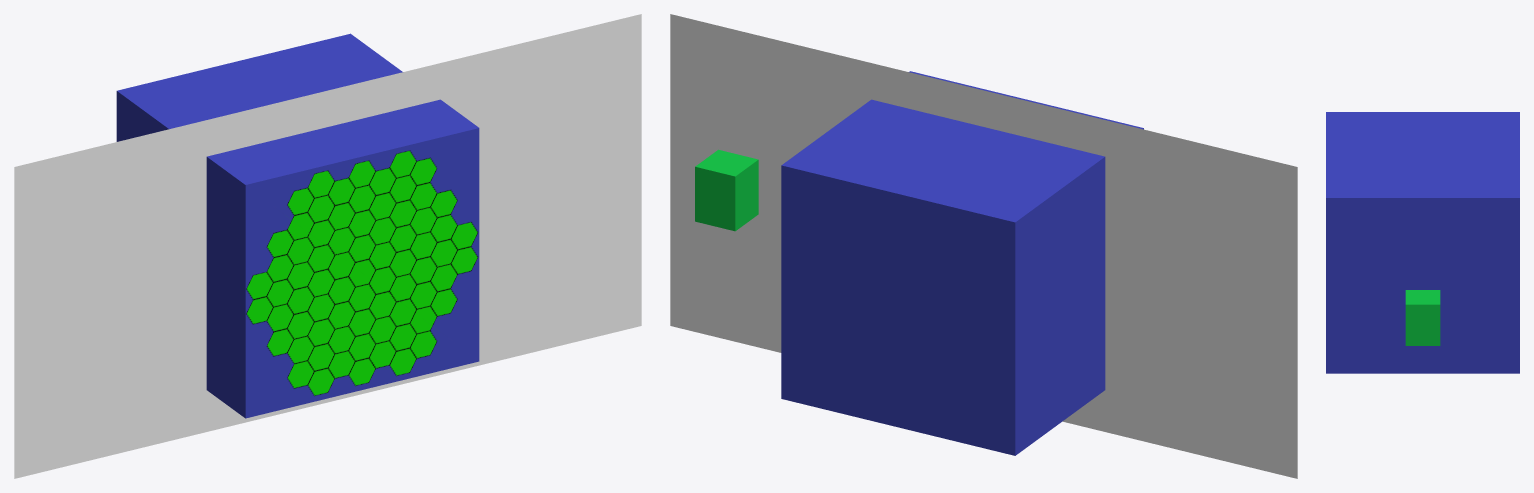
3 renders of one model, left to right at view 1: azimuth 30°, elevation 25°; view 2: azimuth 150°, elevation 25°; view 3: azimuth 270°, elevation 25°, orthographic. The views are drawn at different scales.
Parts seen in each view (by area): view 1: mesh_id71, mesh_id52; view 2: mesh_id71, mesh_id52, mesh_id69; view 3: mesh_id52, mesh_id69.
Part boxes in pixels (box(x1,y1,x2,y2)): mesh_id71: box(14, 14, 641, 478); mesh_id52: box(116, 33, 479, 418); mesh_id71: box(670, 14, 1297, 478); mesh_id52: box(781, 71, 1143, 455); mesh_id69: box(695, 149, 758, 231); mesh_id52: box(1326, 112, 1519, 373); mesh_id69: box(1405, 290, 1440, 345).
Size of the model in its own units: 1.42 by 0.673 by 0.5037.
Materials: 3 (3 with a texture image).
